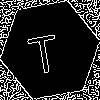T: (25, 25, 61, 76)
